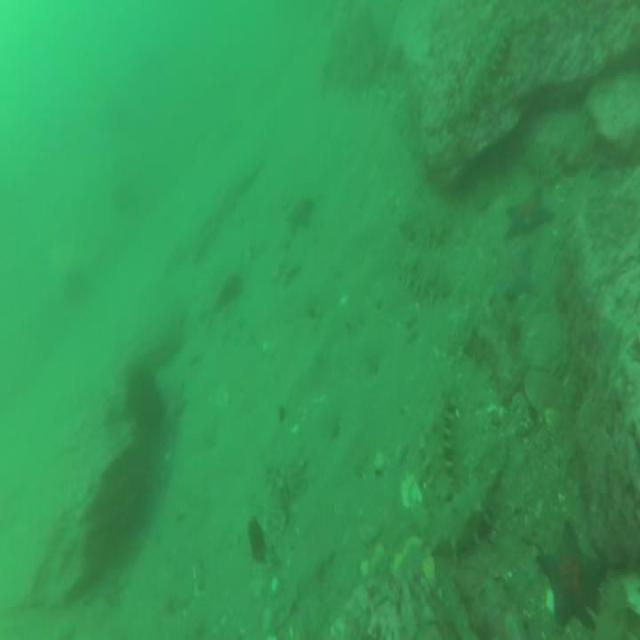echinus: (118, 363, 171, 442), (59, 262, 92, 308)
holothurian: (426, 455, 506, 558), (454, 0, 516, 122), (423, 388, 461, 506), (395, 246, 453, 304), (395, 207, 453, 251)
starfish: (536, 512, 608, 638), (503, 180, 561, 243), (501, 242, 546, 305), (286, 194, 316, 237)
